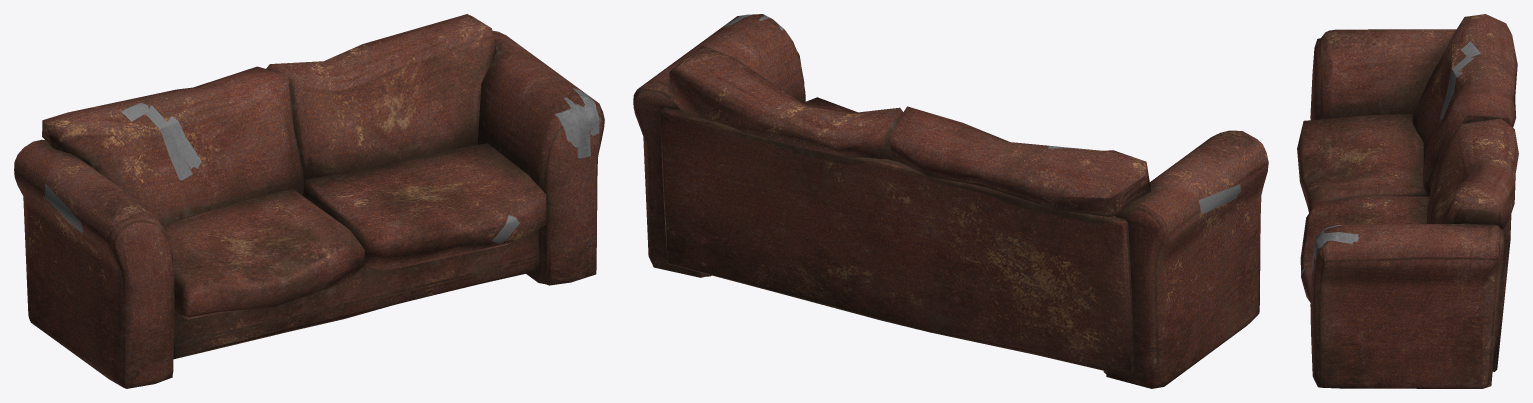
3 views of the same model, side by side, from view 1: azimuth 30°, elevation 25°; view 2: azimuth 150°, elevation 25°; view 3: azimuth 270°, elevation 25° (orthographic). The views are drawn at different scales.
Parts seen in each view (by area): view 1: Arm_Rests_low, Back_Cushions_L_low, Back_Cushions_R_low, Butt_Cushions_R_low, Butt_Cushions_L_low, Seat_low; view 2: Back_low, Arm_Rests_low, Back_Cushions_L_low, Back_Cushions_R_low; view 3: Arm_Rests_low, Butt_Cushions_L_low, Back_Cushions_L_low, Back_Cushions_R_low, Butt_Cushions_R_low, Back_low.
Boxes of the visible parts, x1=… form: Arm_Rests_low: x1=14, y1=30, x2=604, y2=388; Back_Cushions_L_low: x1=42, y1=66, x2=303, y2=224; Back_Cushions_R_low: x1=266, y1=14, x2=496, y2=184; Butt_Cushions_R_low: x1=303, y1=143, x2=546, y2=270; Butt_Cushions_L_low: x1=162, y1=188, x2=364, y2=319; Seat_low: x1=173, y1=229, x2=539, y2=359; Back_low: x1=660, y1=107, x2=1135, y2=377; Arm_Rests_low: x1=633, y1=14, x2=1268, y2=388; Back_Cushions_L_low: x1=889, y1=106, x2=1150, y2=217; Back_Cushions_R_low: x1=669, y1=46, x2=903, y2=160; Arm_Rests_low: x1=1310, y1=29, x2=1504, y2=388; Butt_Cushions_L_low: x1=1297, y1=114, x2=1426, y2=212; Back_Cushions_L_low: x1=1412, y1=14, x2=1517, y2=196; Back_Cushions_R_low: x1=1426, y1=118, x2=1518, y2=229; Butt_Cushions_R_low: x1=1300, y1=196, x2=1429, y2=302; Back_low: x1=1492, y1=214, x2=1511, y2=371.
Bounding box in the file's own units: 236 × 90.48 × 102.
Materials: 1 (1 with a texture image).
